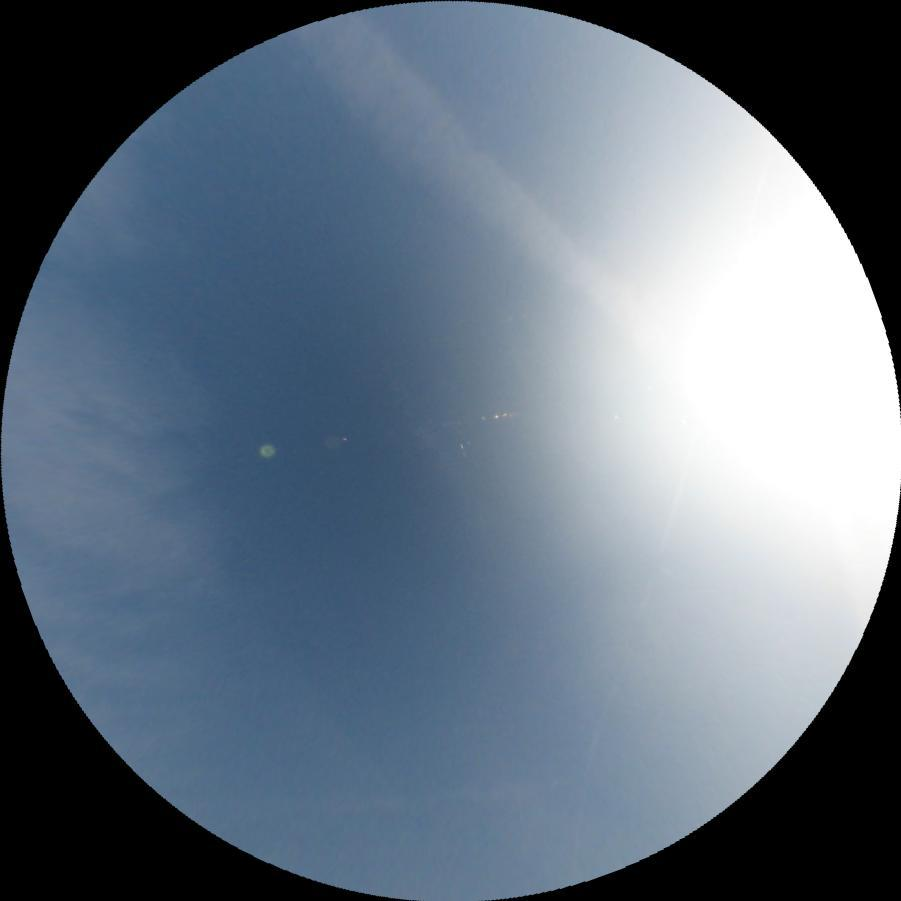contrail veryold: (282, 0, 662, 367)
contrail young: (552, 441, 698, 885)
